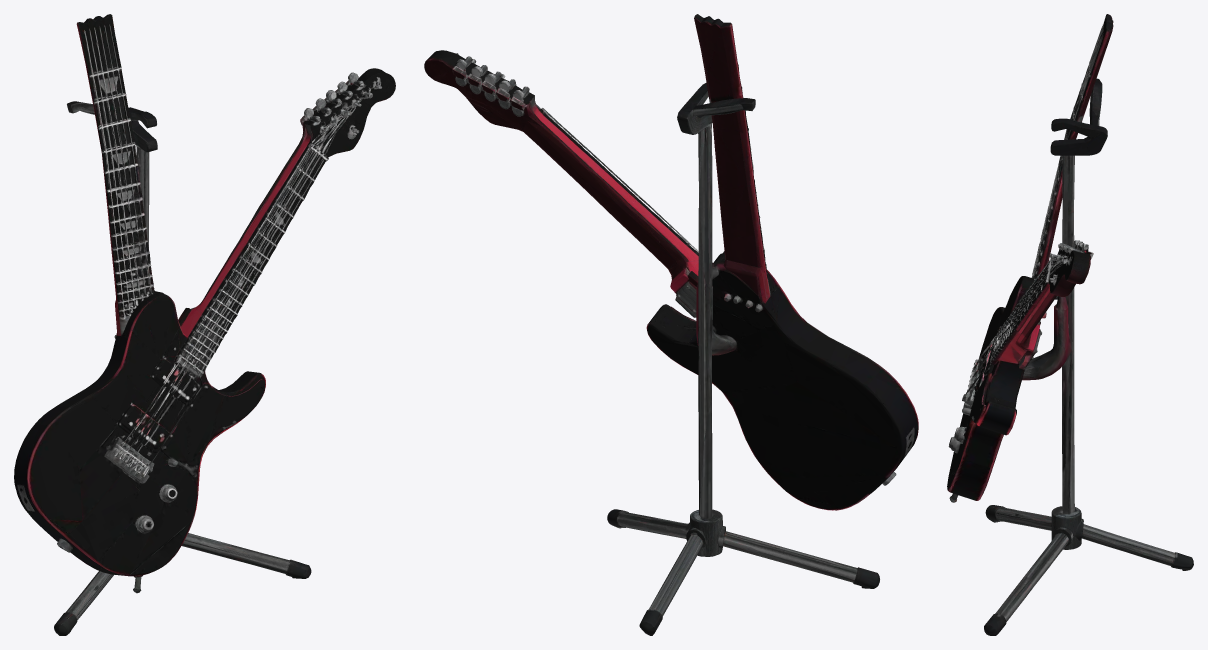
File: guitar.glb
3 renders of one model, left to right at view 1: azimuth 30°, elevation 25°; view 2: azimuth 150°, elevation 25°; view 3: azimuth 270°, elevation 25°, orthographic. The views are drawn at different scales.
Size of the model in its own units: 1.48 by 1.9 by 0.7854.
1 material, 1 textured.
